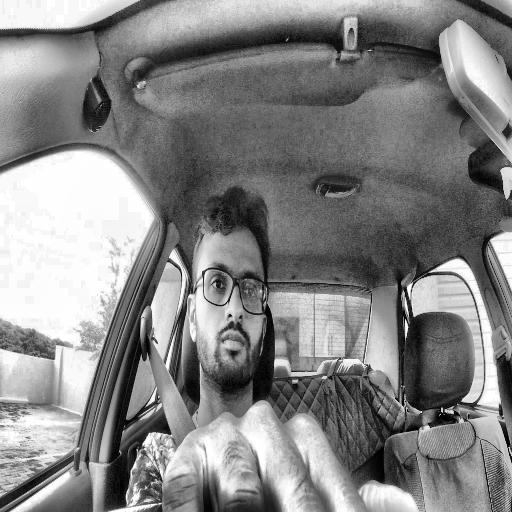awake: (186, 187, 270, 396)
